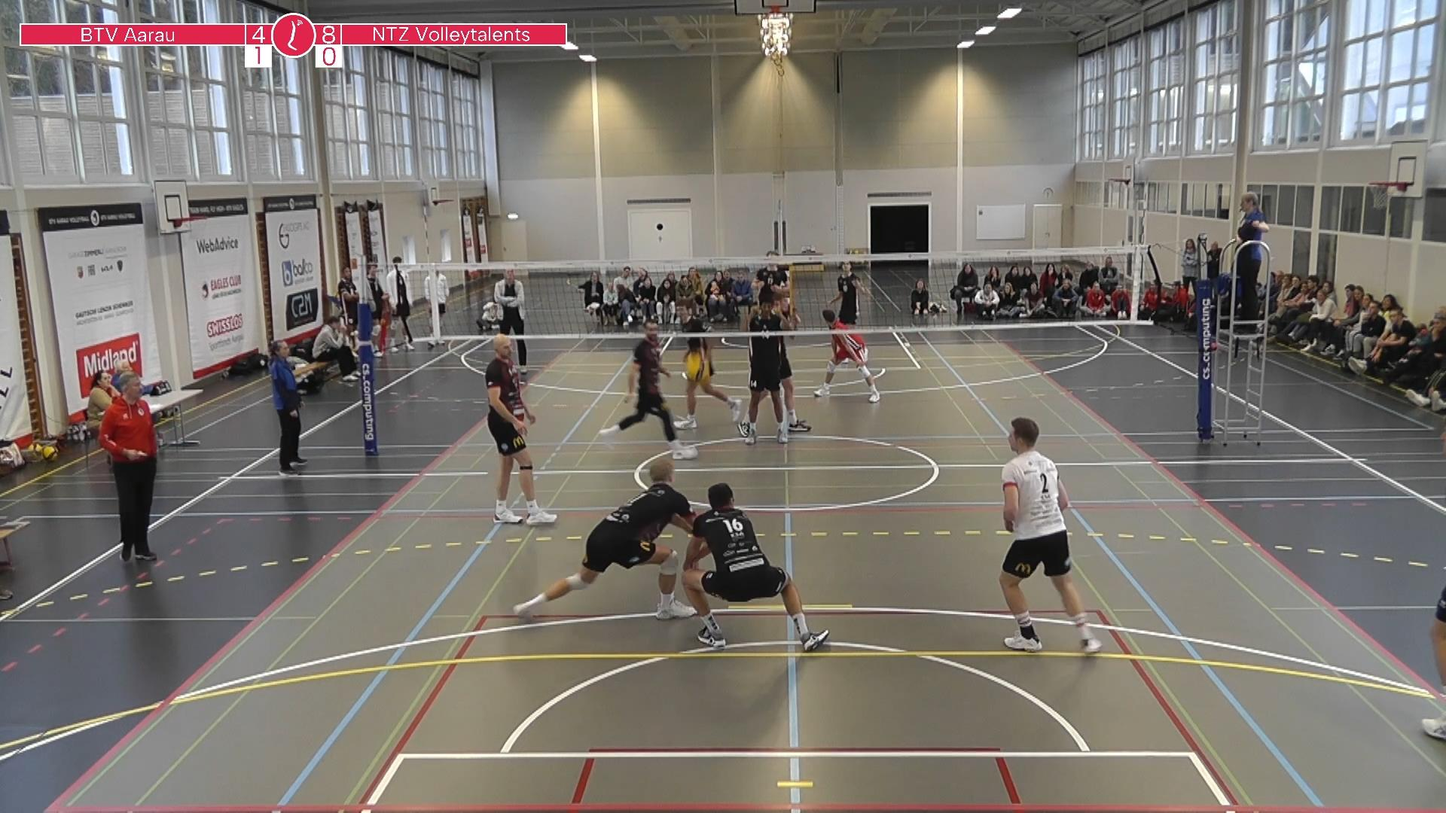ricezione: (503, 453, 725, 620), (682, 477, 838, 652)
